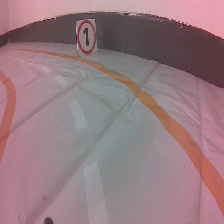limit: (74, 18, 98, 58)
